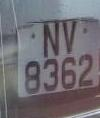2: (77, 52, 96, 91)
3: (40, 56, 62, 95)
6: (59, 55, 79, 94)
8: (22, 57, 42, 97)
N: (41, 18, 63, 62)
V: (60, 18, 80, 58)
